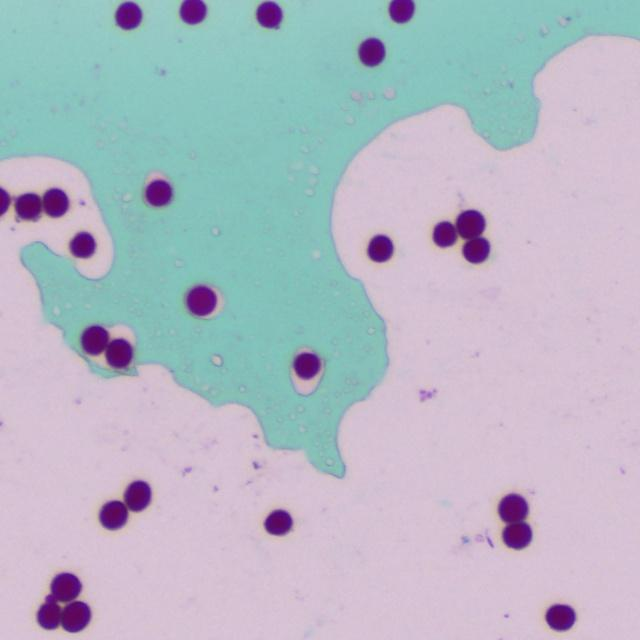viable: (185, 285, 216, 316), (51, 572, 81, 601), (61, 601, 90, 631), (498, 493, 527, 522), (124, 480, 151, 511), (456, 209, 485, 237), (105, 338, 132, 368), (81, 325, 108, 355), (99, 501, 127, 528), (546, 604, 575, 630), (43, 187, 68, 217), (145, 179, 172, 206), (503, 522, 531, 548), (116, 2, 142, 29), (368, 234, 393, 262), (15, 193, 41, 219), (265, 509, 292, 534), (359, 38, 384, 65), (70, 232, 95, 258), (463, 237, 489, 262), (294, 353, 319, 379), (180, 0, 206, 24), (258, 1, 282, 27), (432, 221, 456, 247), (37, 603, 60, 629), (389, 0, 414, 23), (0, 187, 10, 215)
